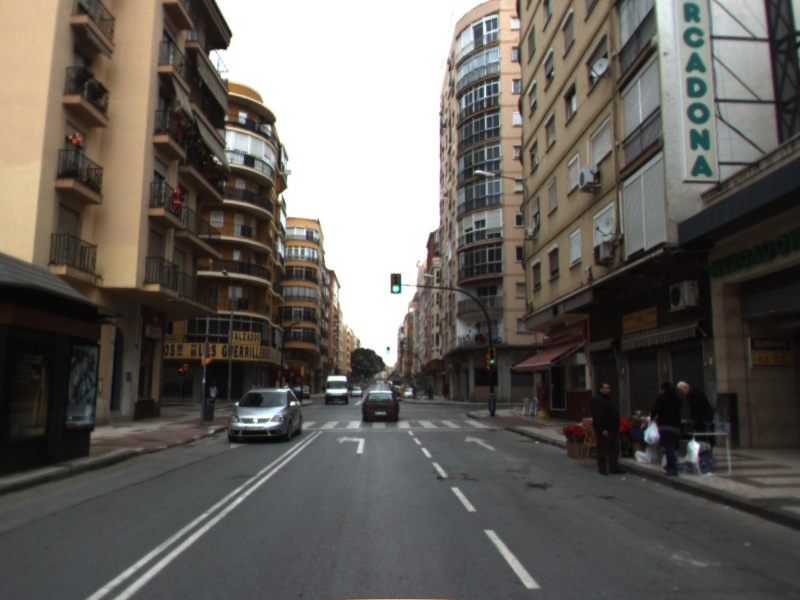LEFT: (334, 433, 367, 455)
STRAIGHT: (463, 434, 497, 452)
